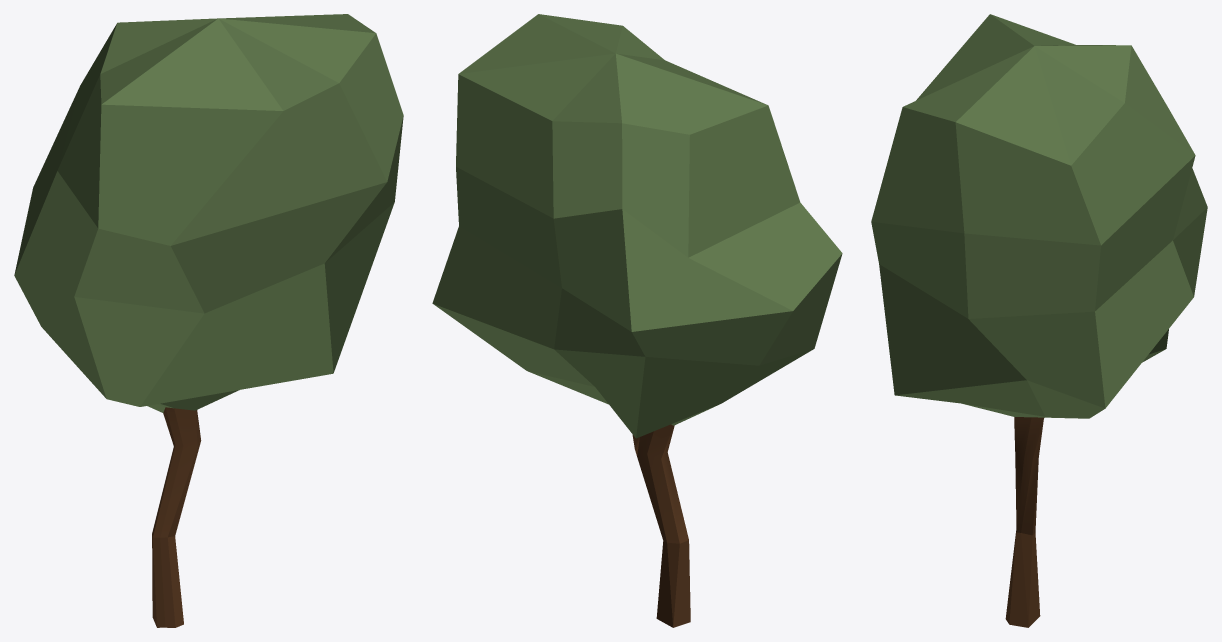
Rendered from Tree02.fbx.
3 renders of one model, left to right at view 1: azimuth 30°, elevation 25°; view 2: azimuth 150°, elevation 25°; view 3: azimuth 270°, elevation 25°, orthographic. The views are drawn at different scales.
Visible parts, largest first — view 1: Tree_PROXY; view 2: Tree_PROXY; view 3: Tree_PROXY.
Part boxes in pixels (x1,y1,x2,y2): Tree_PROXY: (14, 14, 403, 627); Tree_PROXY: (432, 14, 842, 627); Tree_PROXY: (871, 14, 1207, 627).
Bounding box in the file's own units: 526 × 834 × 422.
